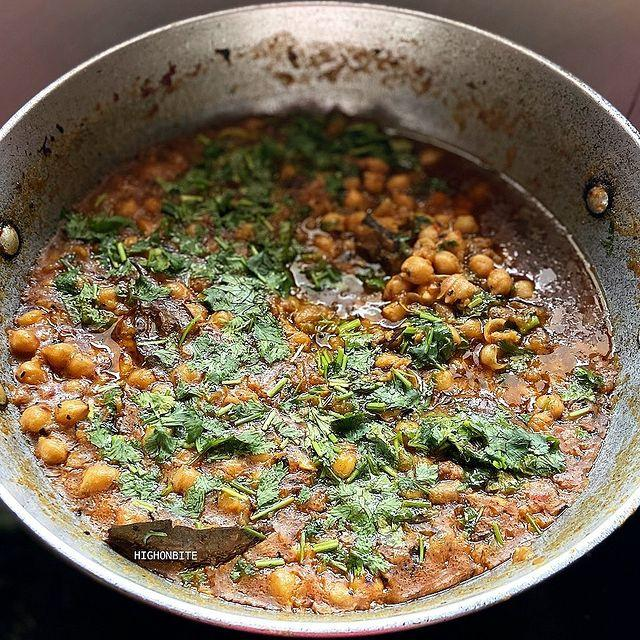Chole: (366, 206, 548, 364)
